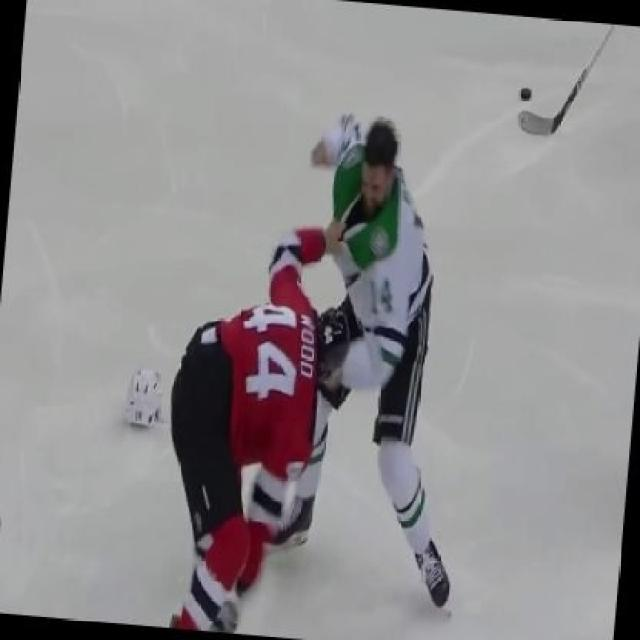fight: (124, 84, 480, 638)
